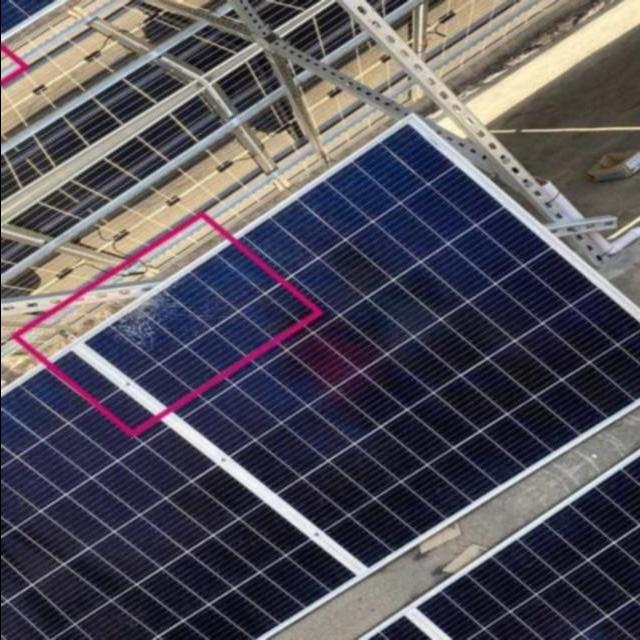cracked: (104, 278, 208, 368)
